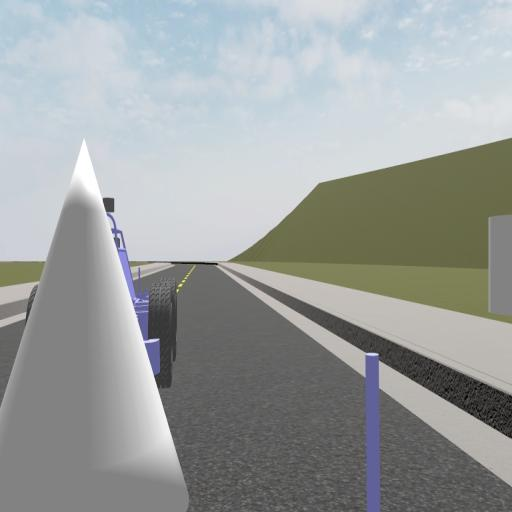ERP-42: (102, 197, 178, 390)
